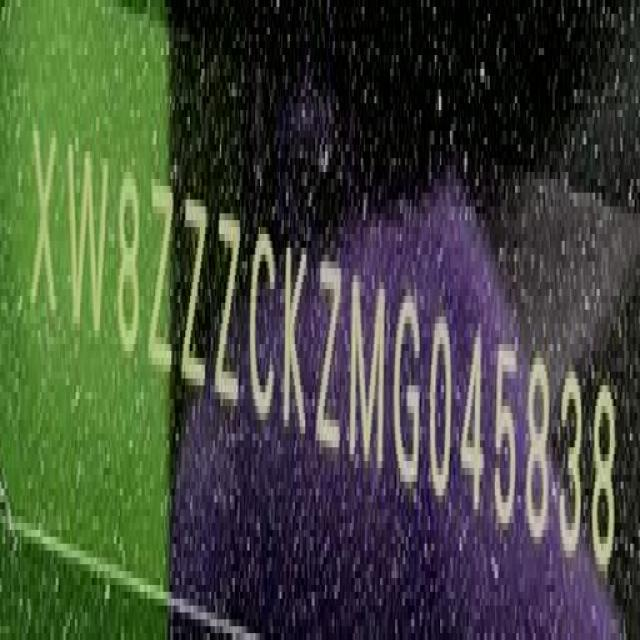0: (428, 305, 454, 511)
3: (558, 366, 583, 566)
4: (461, 318, 489, 522)
5: (495, 331, 521, 535)
8: (593, 375, 620, 571), (526, 351, 552, 546), (118, 160, 142, 368)
C: (250, 217, 277, 427)
G: (391, 288, 422, 500)
K: (282, 231, 308, 442)
M: (346, 267, 388, 481)
W: (66, 126, 112, 352)
X: (29, 110, 58, 326)
Z: (315, 244, 343, 466), (214, 198, 242, 412), (150, 175, 177, 380), (184, 192, 210, 398)
